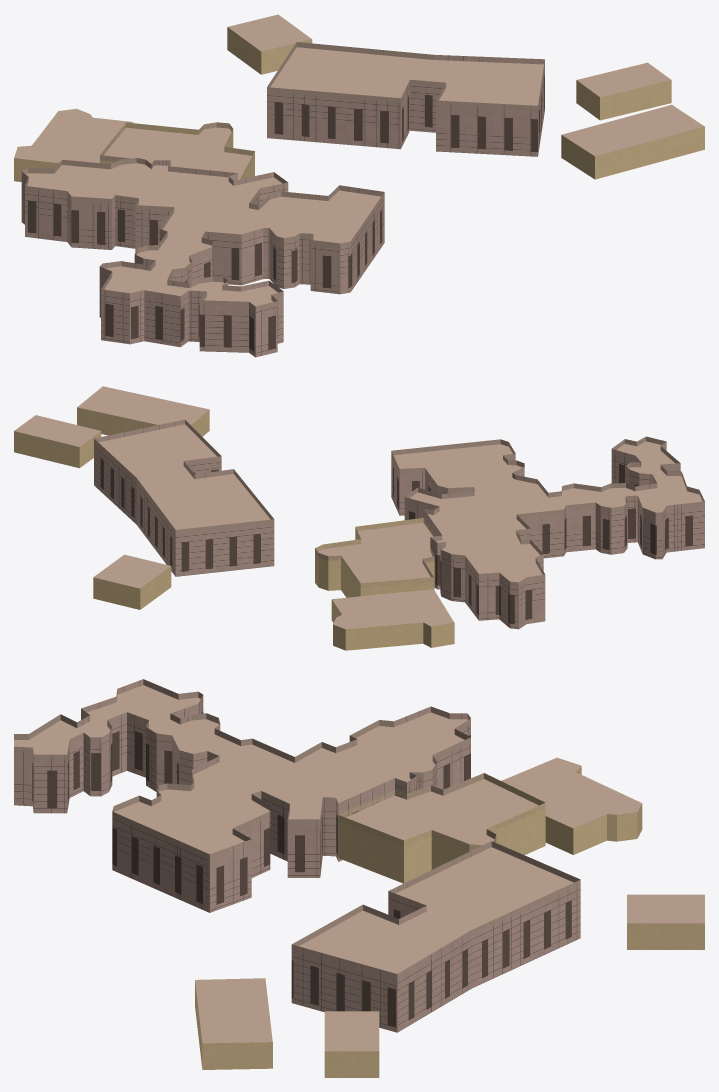
The model's file is musee_national.glb.
3 renders of one model, top to bottom at view 1: azimuth 30°, elevation 25°; view 2: azimuth 150°, elevation 25°; view 3: azimuth 270°, elevation 25°, orthographic. The views are drawn at different scales.
Parts seen in each view (by area): view 1: Musee_National; view 2: Musee_National; view 3: Musee_National.
Boxes of the visible parts, x1,y1,x2,y2 form: Musee_National: [14, 14, 704, 357]; Musee_National: [14, 386, 704, 650]; Musee_National: [14, 679, 704, 1077].
Size of the model in its own units: 0.35 by 0.0335 by 0.2805.
Materials: 1 (1 with a texture image).
